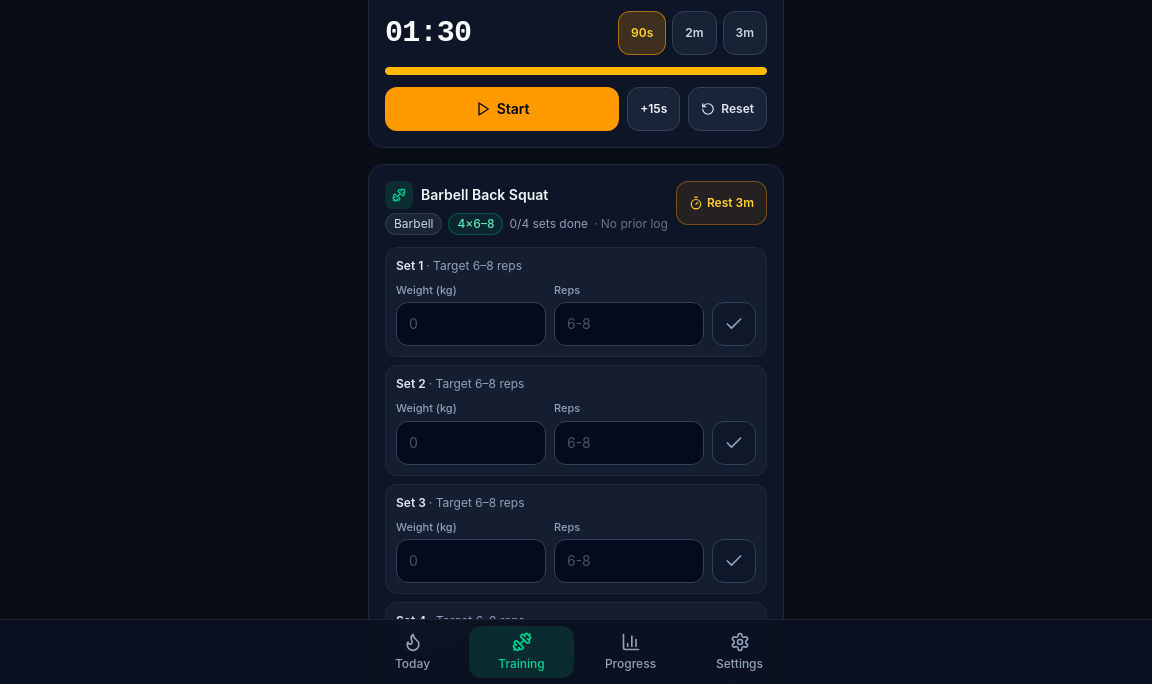
TrainingView, WorkoutLogger, TreadmillLogger & RestTimer › persists logged sets/reps/kg and workout completion across remount and shows Prev numbers next Saturday
Later steps or results of the test are not shown.
(page scrolled)
Type "60" into the number field named "Barbell Back Squat Set 1 weight (kg)" at (471, 324), box [396, 302, 546, 346]
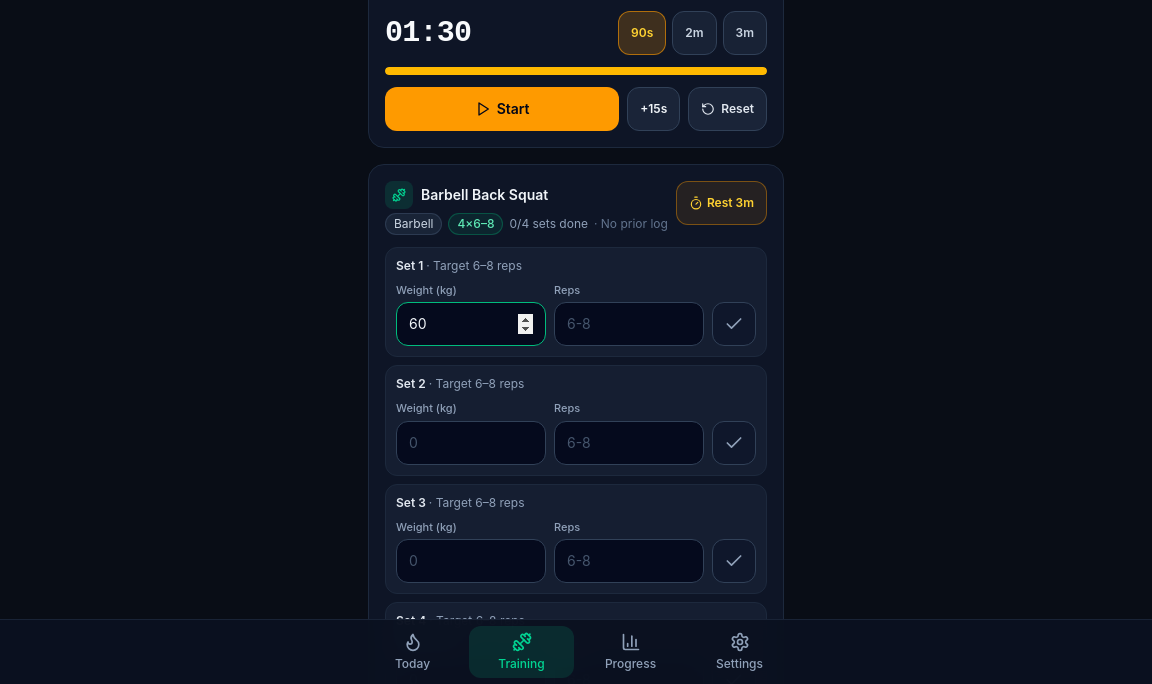
Type "8" into the number field named "Barbell Back Squat Set 1 reps" at (629, 324), box [554, 302, 704, 346]
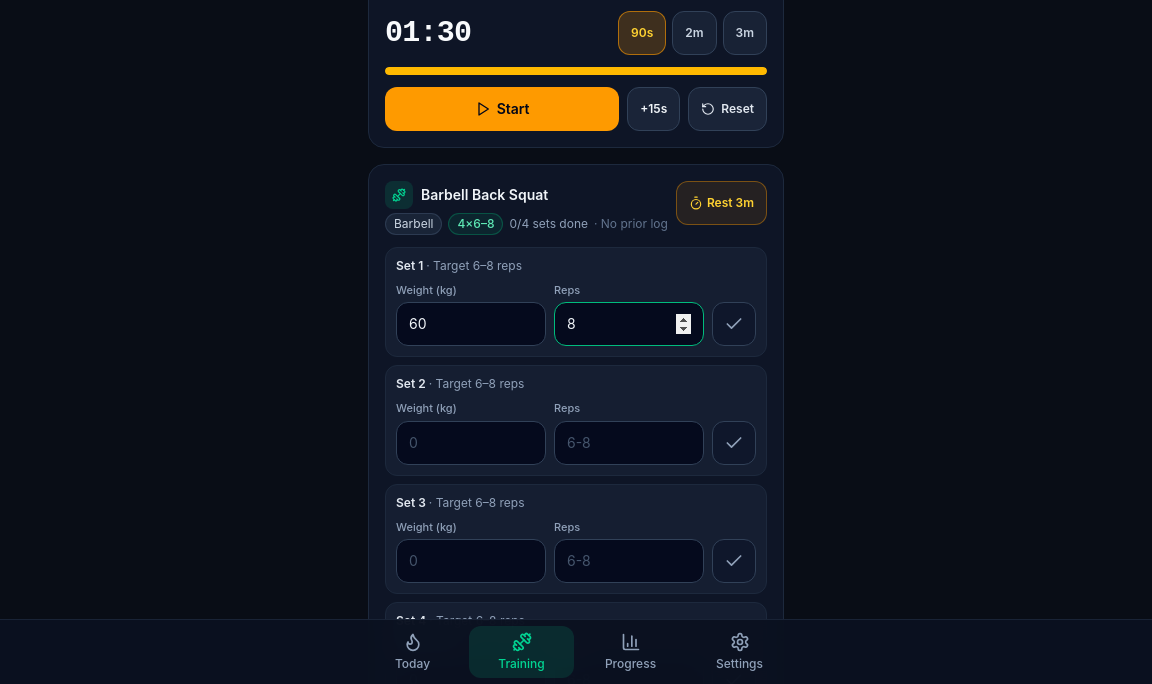
Click the button named "Complete Set 1 — Barbell Back Squat" at (734, 324), box [712, 302, 756, 346]
(page scrolled)
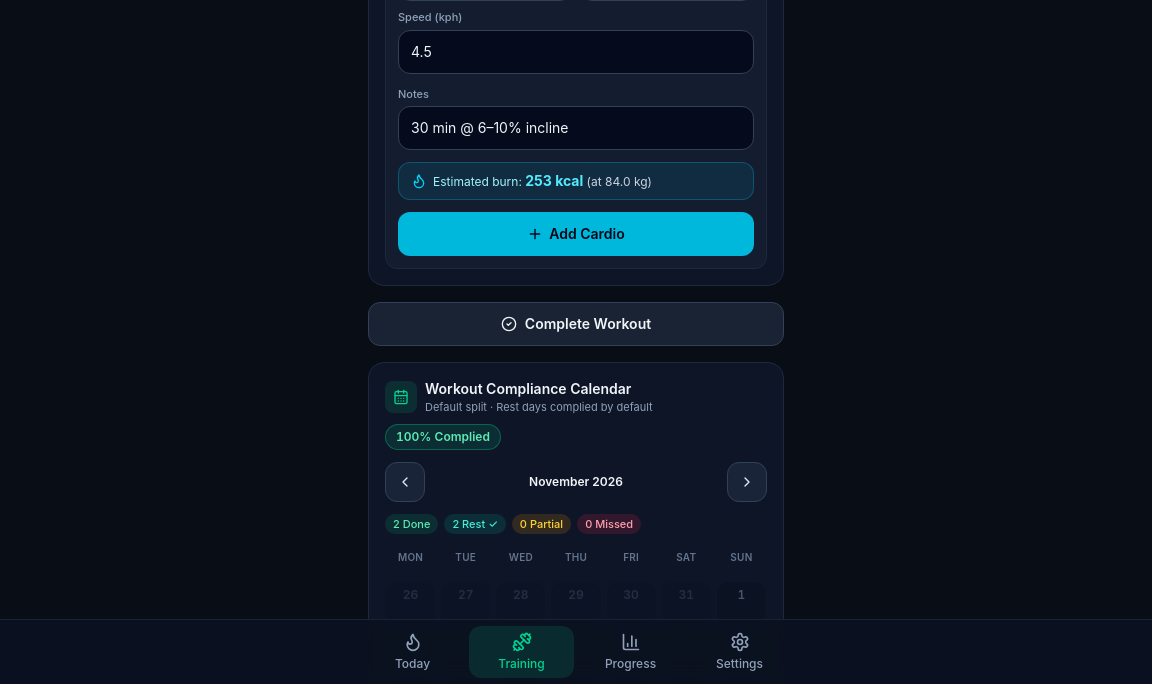
Click the button "Complete Workout" at (576, 324), box [368, 302, 784, 346]
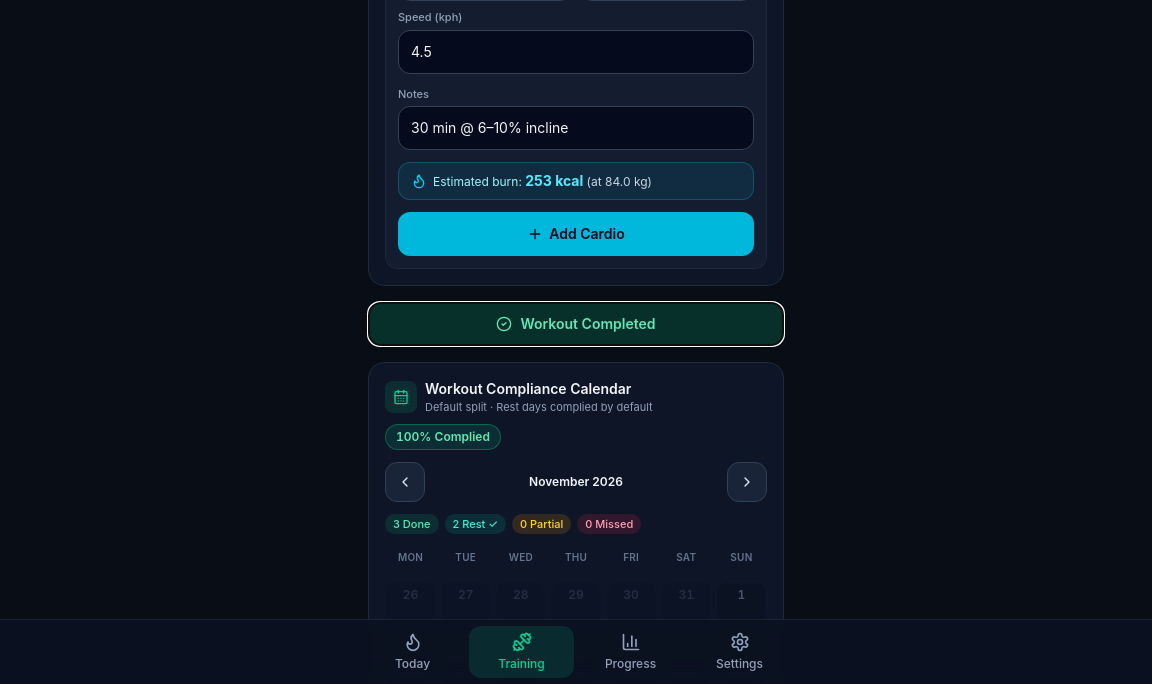
Check: the button "Workout Completed" is pressed, box [368, 302, 784, 346]
